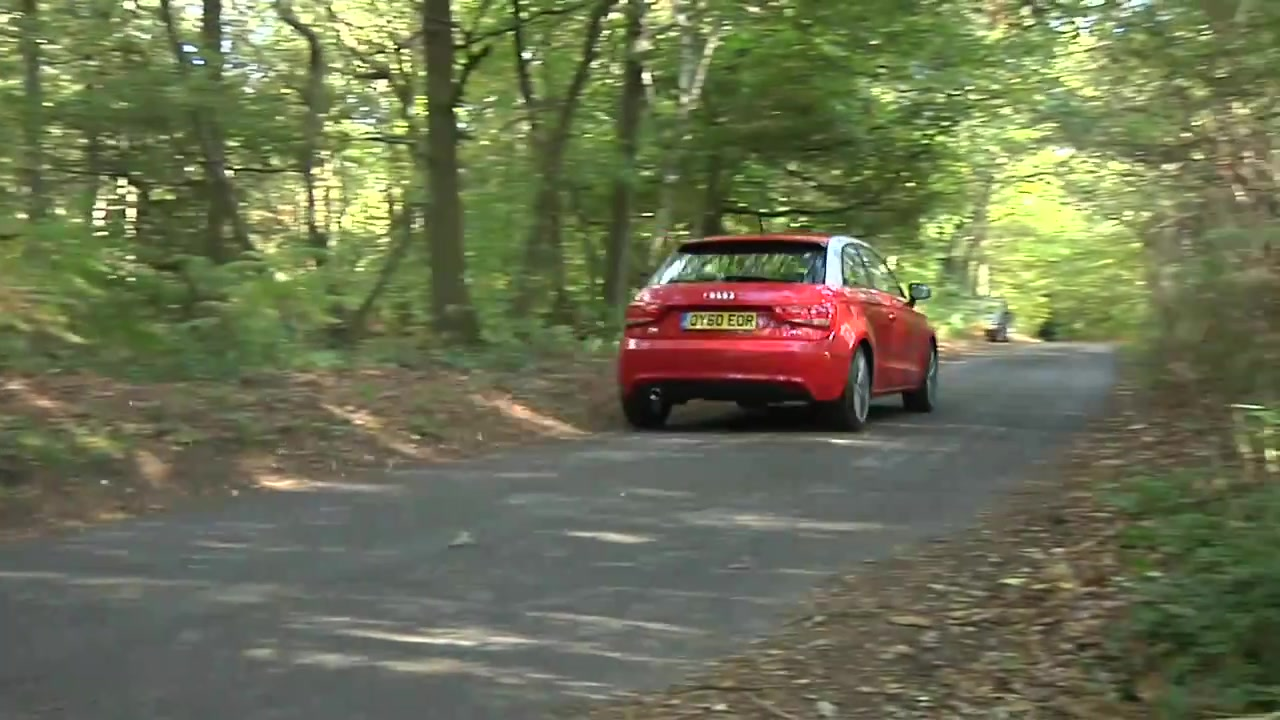car: (605, 232, 949, 435)
